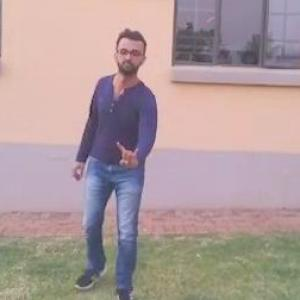takeoff-hand: (114, 134, 144, 173)
